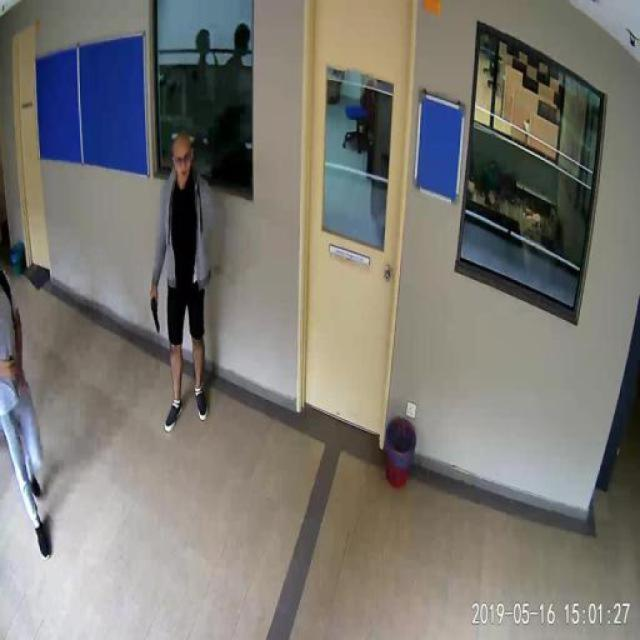pistol: (148, 291, 158, 331)
